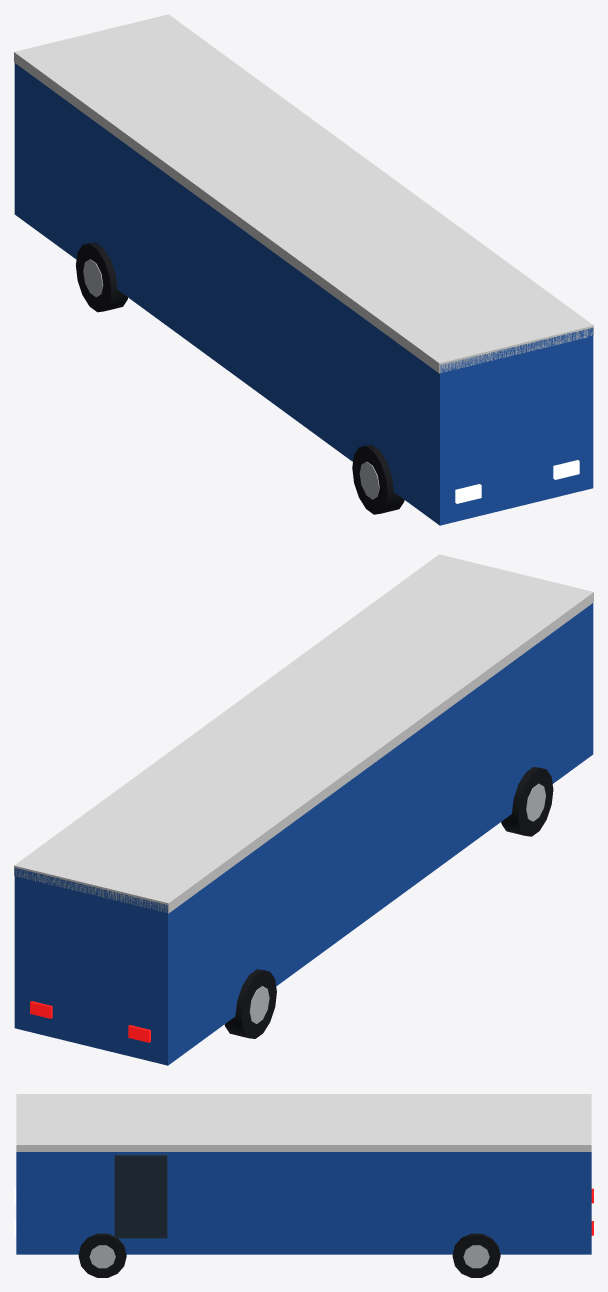
The model's file is bus_transjakarta.glb.
3 views of the same model, one above another, from view 1: azimuth 30°, elevation 25°; view 2: azimuth 150°, elevation 25°; view 3: azimuth 270°, elevation 25° (orthographic). The views are drawn at different scales.
Parts seen in each view (by area): view 1: object 1, object 3, wheel_fl, wheel_rl; view 2: object 1, object 3, wheel_rl, wheel_fl; view 3: object 1, object 3, object 4, wheel_rr, wheel_fr.
Boxes of the visible parts, x1,y1,x2,y2 form: object 1: (14, 63, 593, 525); object 3: (14, 14, 593, 373); wheel_fl: (352, 445, 404, 514); wheel_rl: (76, 242, 127, 312); object 1: (14, 603, 593, 1065); object 3: (14, 554, 593, 913); wheel_rl: (224, 969, 276, 1038); wheel_fl: (501, 767, 553, 836); object 1: (16, 1152, 591, 1254); object 3: (16, 1094, 591, 1151); object 4: (114, 1155, 167, 1238); wheel_rr: (452, 1233, 500, 1277); wheel_fr: (78, 1233, 126, 1277).
Bounding box in the file's own units: 2.72 × 3.02 × 12.1.
